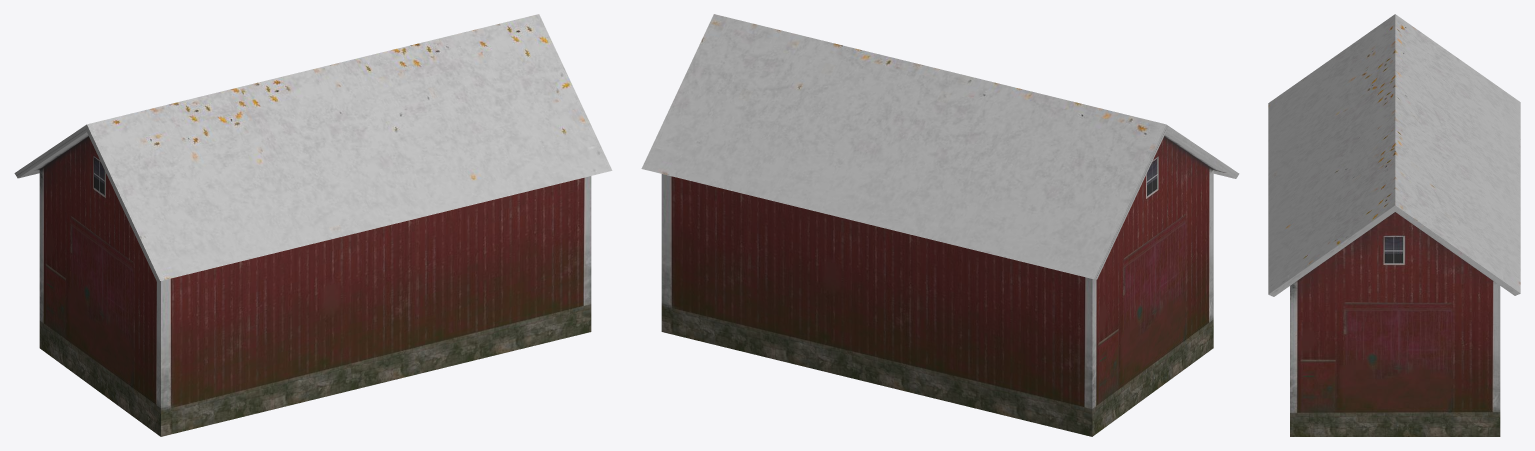
Rendered from granero_2.fbx.
3 views of the same model, side by side, from view 1: azimuth 30°, elevation 25°; view 2: azimuth 150°, elevation 25°; view 3: azimuth 270°, elevation 25° (orthographic). The views are drawn at different scales.
Parts seen in each view (by area): view 1: barn_one; view 2: barn_one; view 3: barn_one.
Boxes of the visible parts, bbox=[...] form: barn_one: bbox=[14, 14, 612, 436]; barn_one: bbox=[641, 14, 1239, 436]; barn_one: bbox=[1268, 14, 1520, 436].
Bounding box in the file's own units: 518 × 297 × 289.
1 material, 1 textured.
